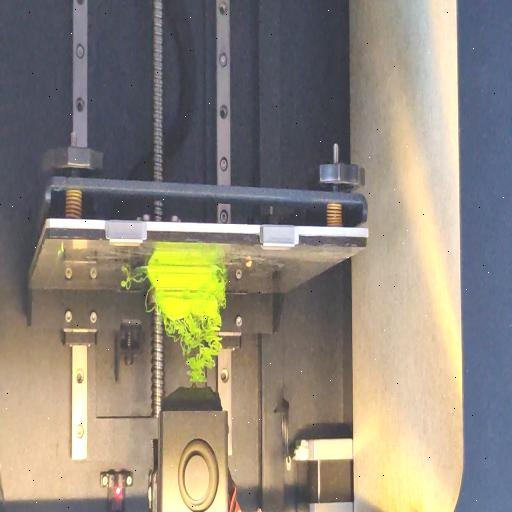spaghetti: (161, 312, 225, 383), (118, 274, 146, 288), (144, 282, 154, 316), (218, 268, 224, 277)
